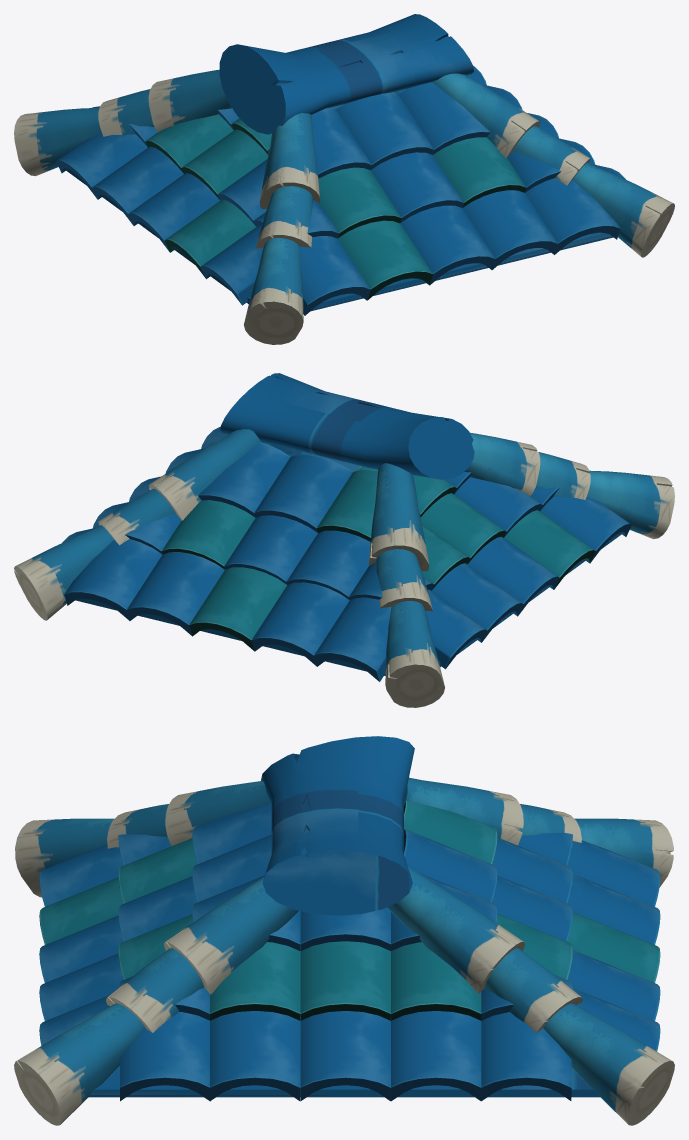
The model's file is Techo.obj.
3 views of the same model, one above another, from view 1: azimuth 30°, elevation 25°; view 2: azimuth 150°, elevation 25°; view 3: azimuth 270°, elevation 25° (orthographic). The views are drawn at different scales.
Parts seen in each view (by area): view 1: group pasted__pCylinder101, pCylinder156, pCylinder45, group pasted__pCylinder105, group pasted__pCylinder7, pCylinder103, group pasted__pCylinder102, pCylinder164, group pasted__pCylinder104, pCylinder111, group pasted__pCylinder107, pCylinder110 (+20 smaller); view 2: group pasted__pCylinder101, pCylinder164, group pasted__pCylinder123, pCylinder124, group pasted__pCylinder125, group pasted__pCylinder115, pCylinder161, pCylinder162, group pasted__pCylinder126, pCylinder156, group pasted__pCylinder122, group pasted__pCylinder119 (+21 smaller); view 3: group pasted__pCylinder101, pCylinder45, pCylinder161, pCylinder159, group pasted__pCylinder130, group pasted__pCylinder128, group pasted__pCylinder129, pCylinder155, pCylinder134, group pasted__pCylinder127, group pasted__pCylinder131, pCylinder135 (+39 smaller).
Boxes of the visible parts, left/top/right/bottom form: group pasted__pCylinder101: left=219, top=14, right=473, bottom=134; pCylinder156: left=244, top=237, right=303, bottom=344; pCylinder45: left=573, top=162, right=674, bottom=257; group pasted__pCylinder105: left=336, top=92, right=434, bottom=169; group pasted__pCylinder7: left=400, top=205, right=495, bottom=284; pCylinder103: left=337, top=220, right=432, bottom=300; group pasted__pCylinder102: left=462, top=190, right=557, bottom=269; pCylinder164: left=14, top=107, right=101, bottom=176; group pasted__pCylinder104: left=370, top=152, right=463, bottom=222; pCylinder111: left=433, top=137, right=526, bottom=207; group pasted__pCylinder107: left=525, top=178, right=620, bottom=254; pCylinder110: left=318, top=167, right=401, bottom=237; group pasted__pCylinder101: left=220, top=373, right=474, bottom=479; pCylinder164: left=385, top=601, right=444, bottom=707; group pasted__pCylinder123: left=251, top=582, right=349, bottom=666; pCylinder124: left=189, top=567, right=287, bottom=651; group pasted__pCylinder125: left=126, top=552, right=224, bottom=635; group pasted__pCylinder115: left=254, top=454, right=352, bottom=532; pCylinder161: left=14, top=525, right=113, bottom=620; pCylinder162: left=368, top=463, right=429, bottom=571; group pasted__pCylinder126: left=64, top=539, right=162, bottom=620; pCylinder156: left=586, top=470, right=674, bottom=539; group pasted__pCylinder122: left=314, top=597, right=391, bottom=681; group pasted__pCylinder119: left=224, top=515, right=317, bottom=584; group pasted__pCylinder101: left=261, top=736, right=414, bottom=915; pCylinder45: left=14, top=1003, right=145, bottom=1125; pCylinder161: left=543, top=1003, right=674, bottom=1125; pCylinder159: left=387, top=865, right=524, bottom=993; group pasted__pCylinder130: left=391, top=1011, right=481, bottom=1101; group pasted__pCylinder128: left=210, top=1011, right=300, bottom=1101; group pasted__pCylinder129: left=300, top=1011, right=390, bottom=1101; pCylinder155: left=164, top=876, right=298, bottom=994; pCylinder134: left=300, top=941, right=390, bottom=1020; group pasted__pCylinder127: left=120, top=1012, right=209, bottom=1101; group pasted__pCylinder131: left=481, top=1012, right=571, bottom=1100; pCylinder135: left=210, top=942, right=300, bottom=1020.
Size of the model in its own units: 9.41 by 3.75 by 10.09.
Materials: 8 (8 with a texture image).
